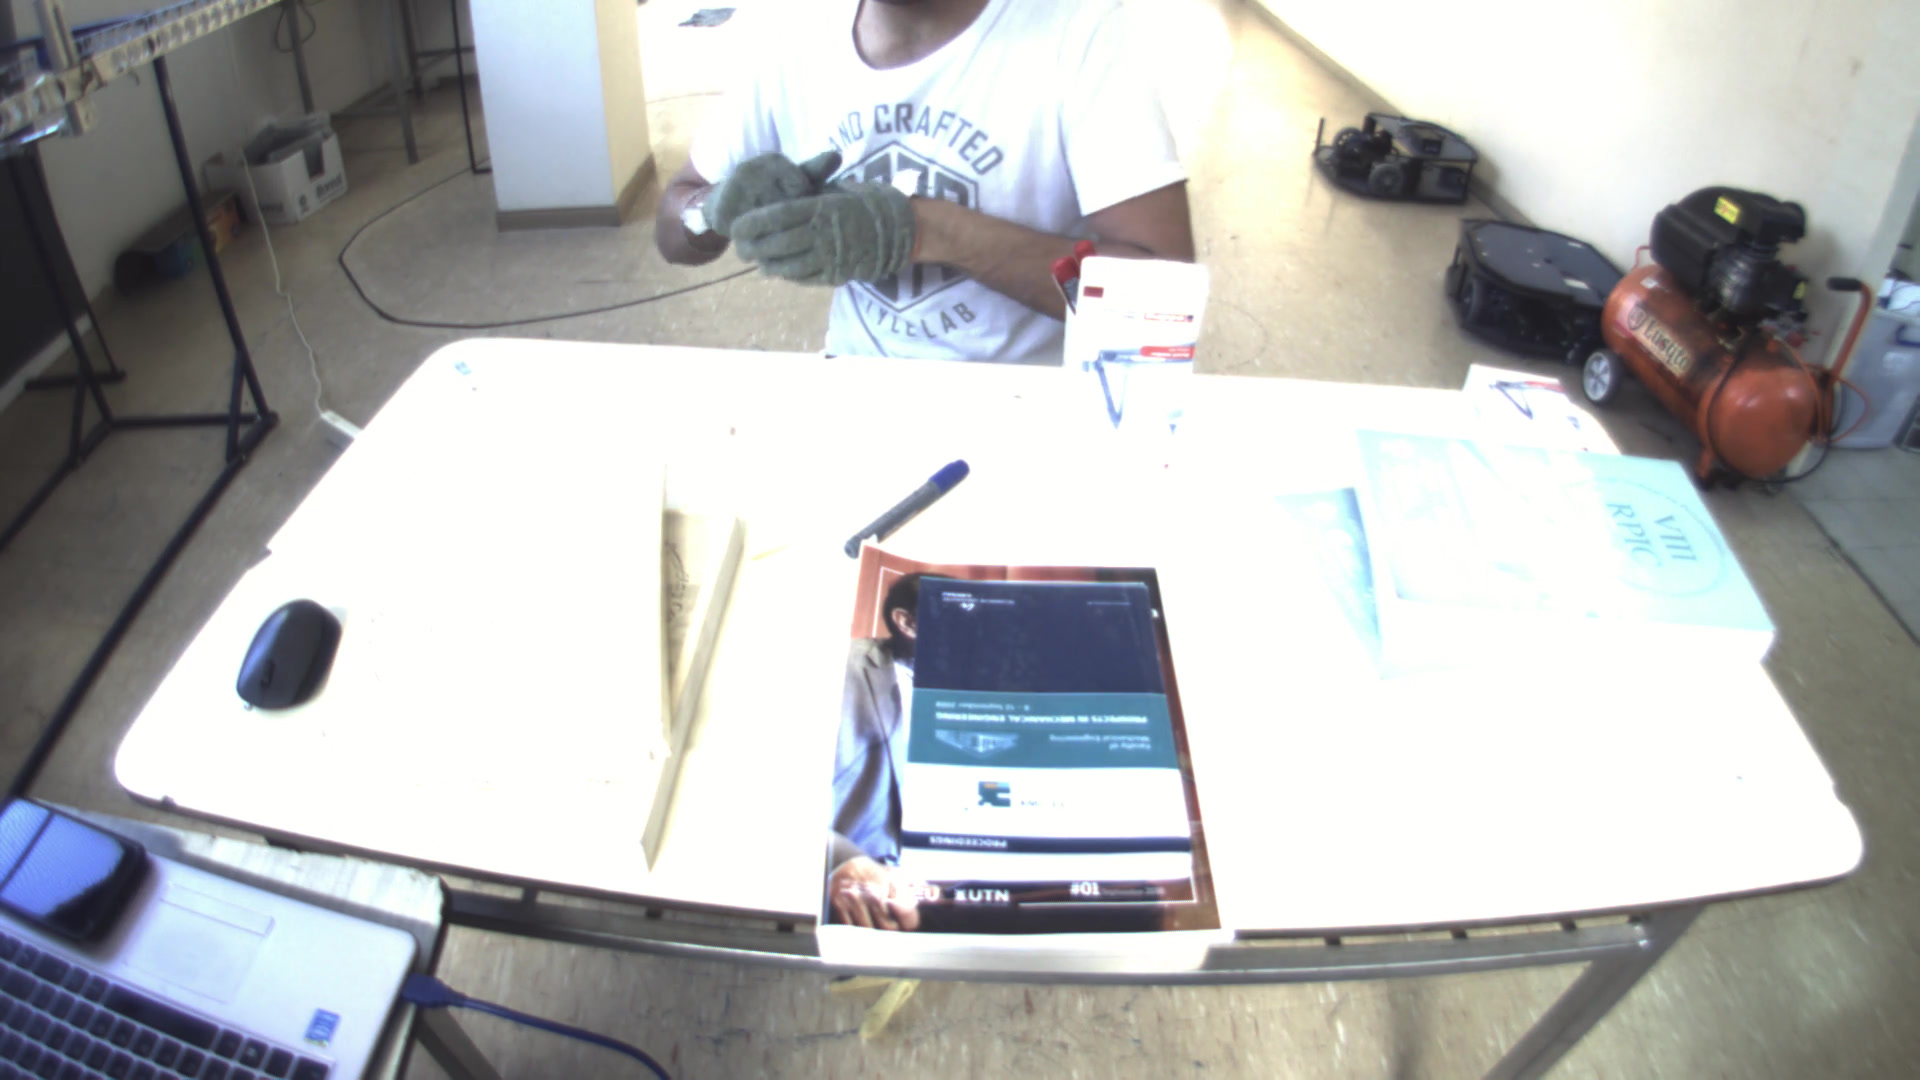hand: (733, 189, 916, 287), (703, 150, 833, 206)
